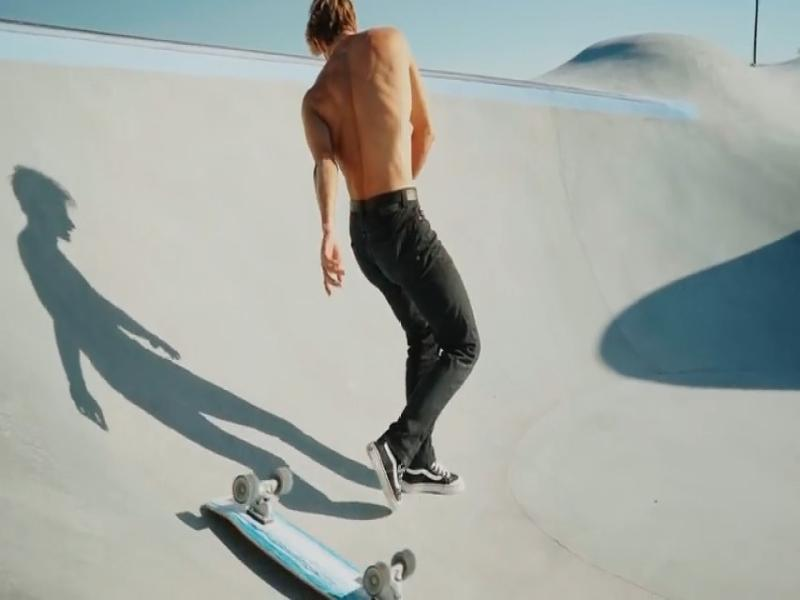person: (302, 0, 480, 508)
skate: (206, 469, 416, 599)
